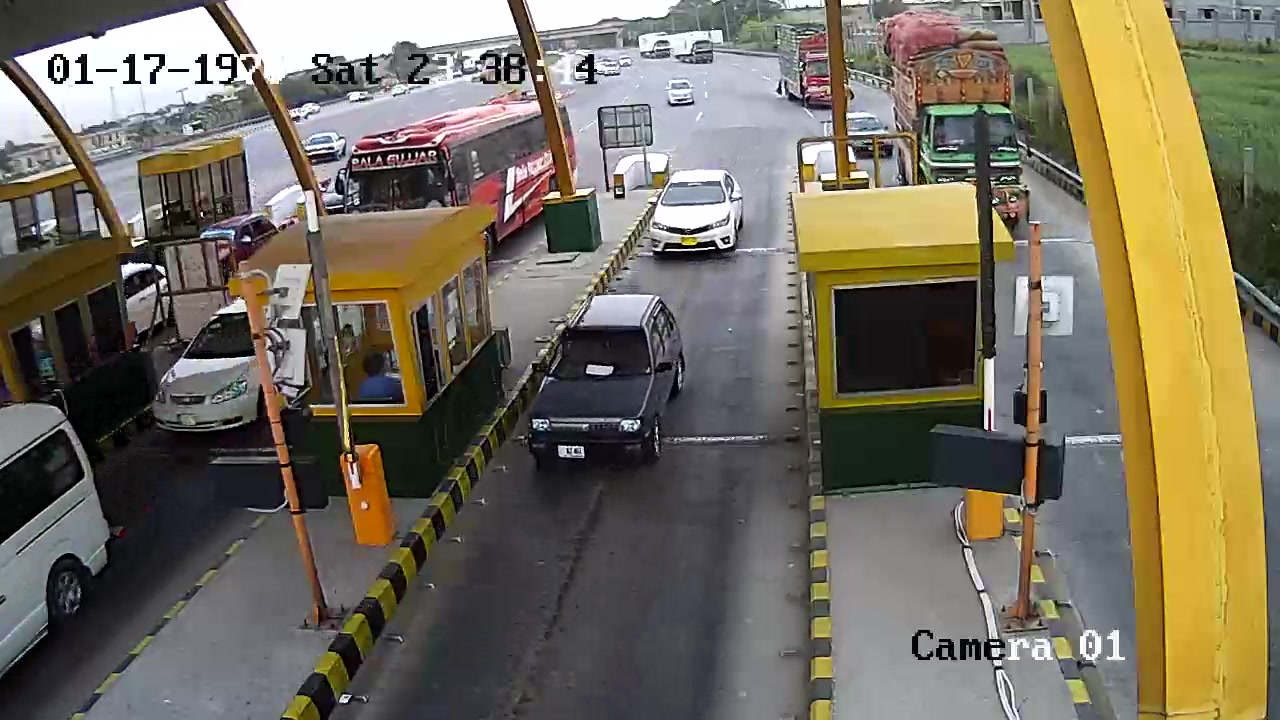F1: (515, 282, 712, 498)
